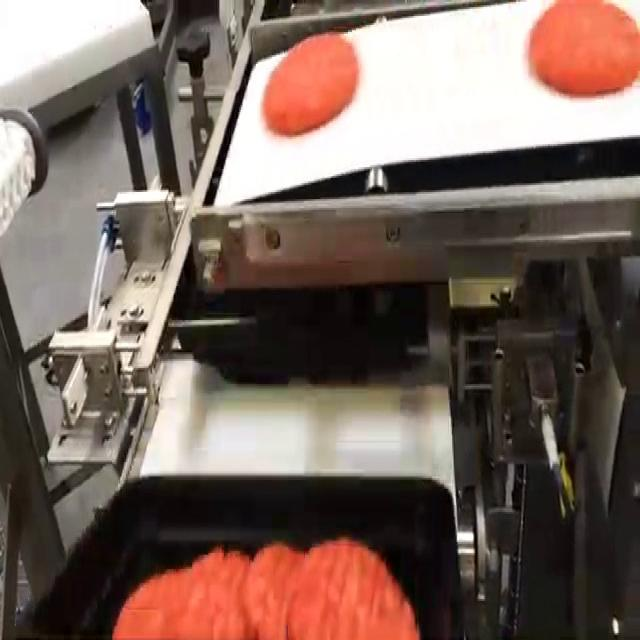4-hamburguer: (113, 539, 420, 638)
hamburguer: (529, 0, 639, 96), (261, 32, 359, 135)
